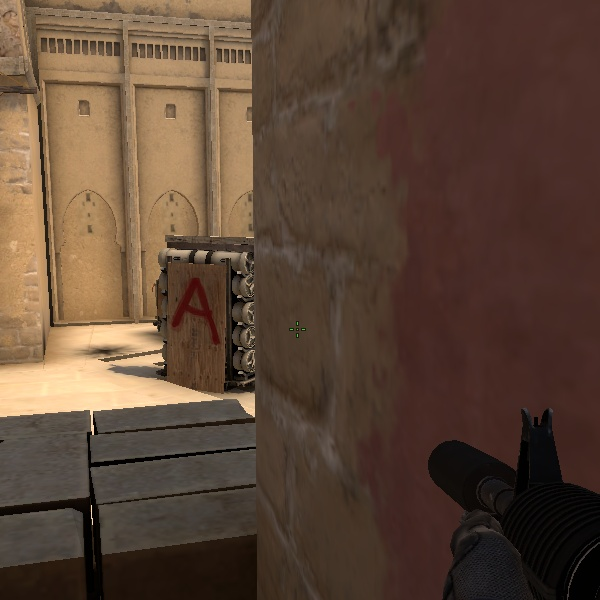t_body: (223, 291, 261, 390)
